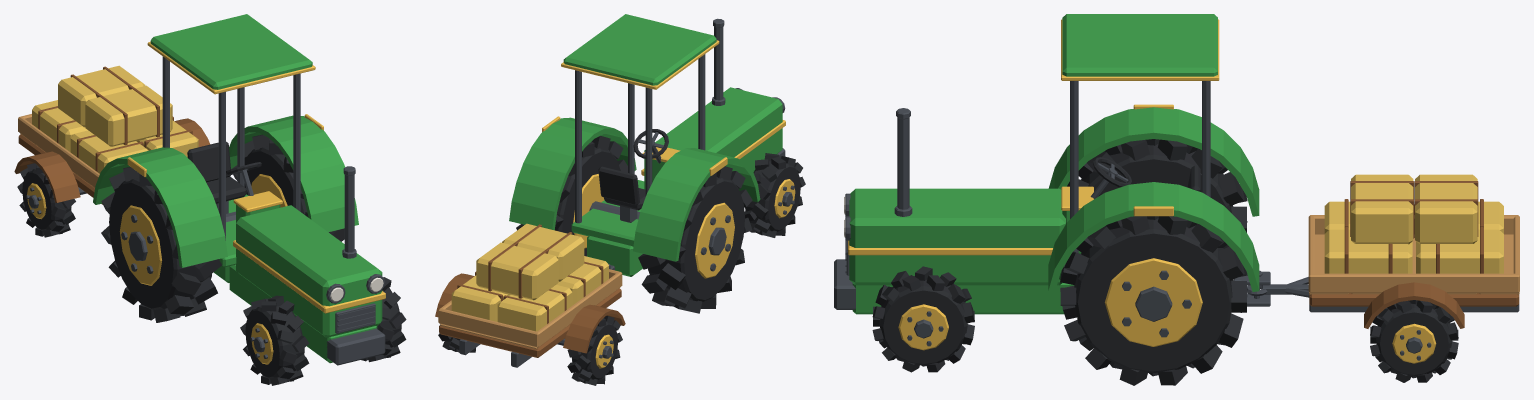
The model's file is farm-tractor-and-hay-trailer.glb.
The picture shows the model from 3 angles, left to right: view 1: azimuth 30°, elevation 25°; view 2: azimuth 150°, elevation 25°; view 3: azimuth 270°, elevation 25°; orthographic projection. The views are drawn at different scales.
Visible parts, largest first — view 1: Tractor_Body, Trailer_Body, Wheel_RearLeft, Wheel_FrontLeft, Wheel_RearRight, Trailer_Wheel_Left, Wheel_FrontRight; view 2: Tractor_Body, Trailer_Body, Wheel_RearLeft, Wheel_FrontLeft, Wheel_RearRight, Trailer_Wheel_Left, SteeringWheel; view 3: Tractor_Body, Trailer_Body, Wheel_RearRight, Wheel_FrontRight, Trailer_Wheel_Right, Wheel_RearLeft, SteeringWheel.
Part boxes in pixels (x1,y1,x2,y2): Tractor_Body: (93,14,385,365); Trailer_Body: (14,65,210,204); Wheel_RearLeft: (101,167,221,322); Wheel_FrontLeft: (240,295,309,385); Wheel_RearRight: (232,134,344,241); Trailer_Wheel_Left: (17,163,75,237); Wheel_FrontRight: (361,277,406,362); Tractor_Body: (509,14,785,276); Trailer_Body: (435,223,625,367); Wheel_RearLeft: (638,166,752,313); Wheel_FrontLeft: (744,153,805,237); Wheel_RearRight: (516,135,627,256); Trailer_Wheel_Left: (567,315,622,385); SteeringWheel: (633,129,668,158); Tractor_Body: (834,14,1270,314); Trailer_Body: (1247,174,1519,328); Wheel_RearRight: (1060,216,1247,385); Wheel_FrontRight: (872,266,974,372); Trailer_Wheel_Right: (1370,300,1458,382); Wheel_RearLeft: (1067,139,1247,248); SteeringWheel: (1093,157,1131,187).
Size of the model in its own units: 7.24 by 9.72 by 20.27.
